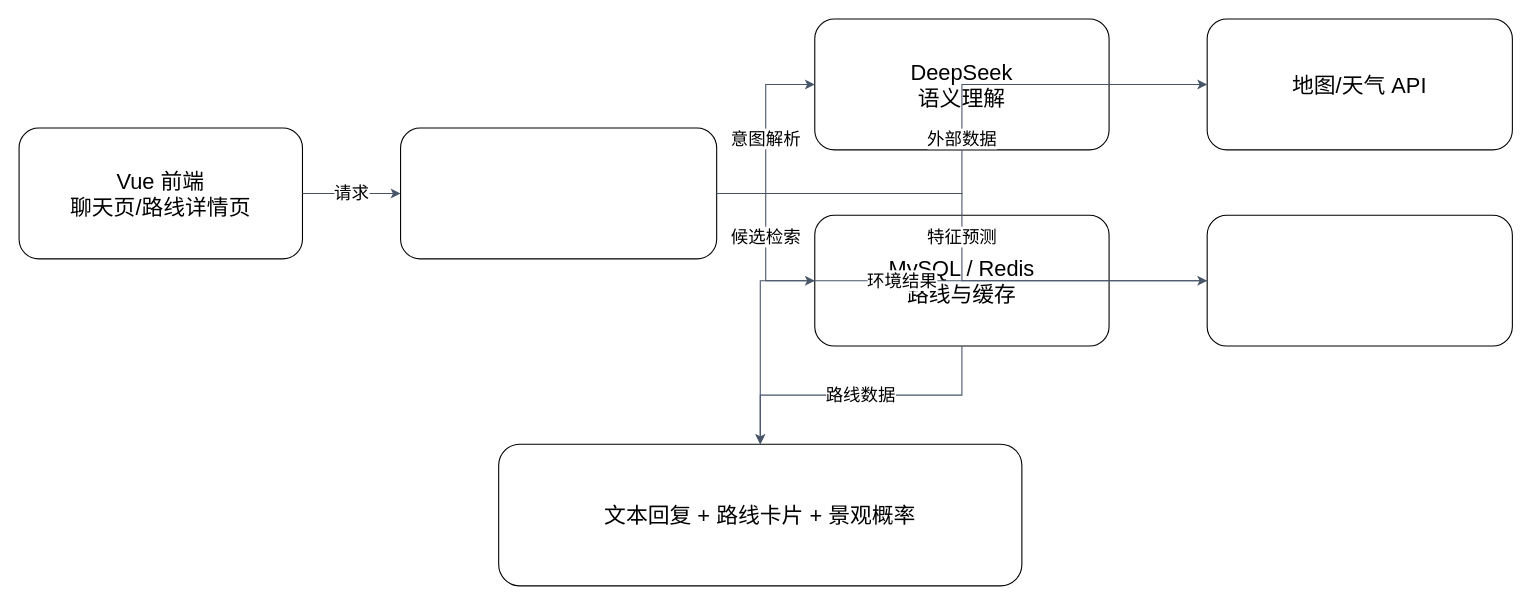
Image size: 1531x605. Some labels were removed from this diagram. Here are the shapes that lost their labels. From the top down, the centre of each, then its label:
pixel 558 193: Spring Boot 业务编排层
pixel 1359 280: Flask + 随机森林预测
